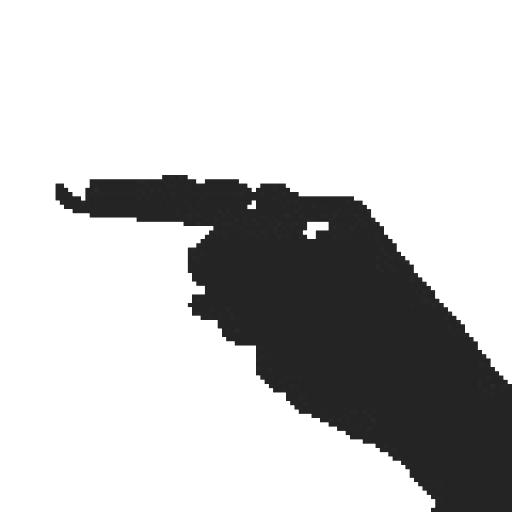index_right: (54, 173, 512, 364)
